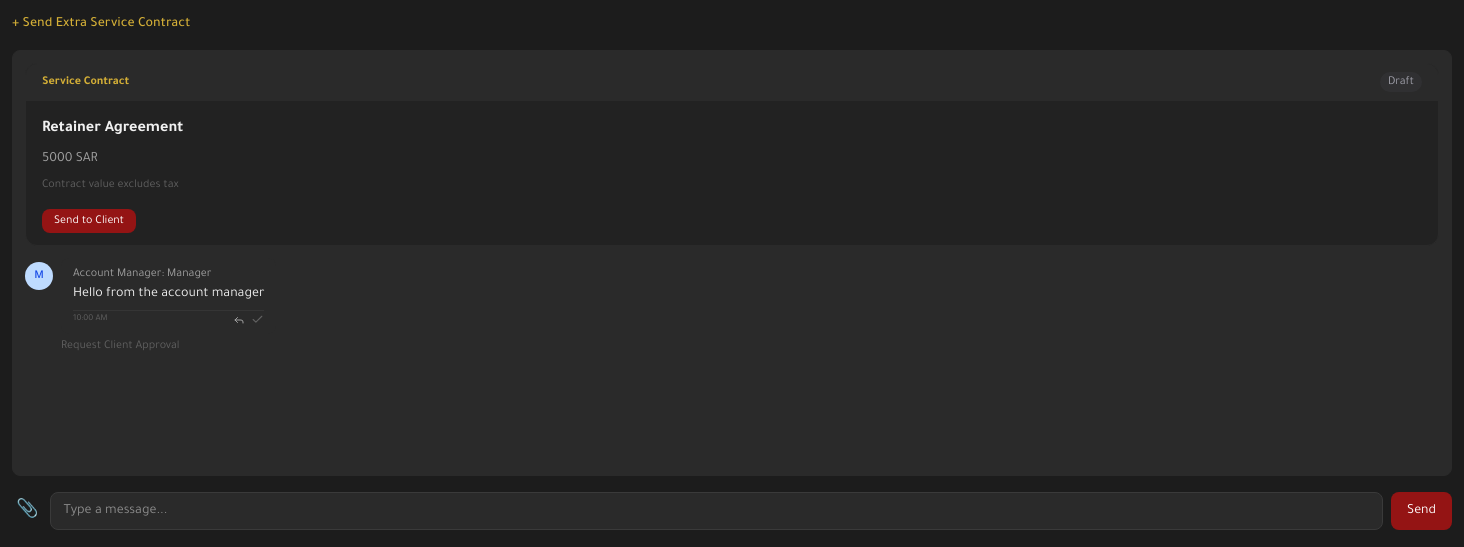
ChatTab (characterization) › toggles "require action" on a message
This screenshot has width=1464, height=547.
Expected: the text "Hello from the account manager" is shown, [73,287,264,301]
Click the button "Request Client Approval" at x=120, y=346, box [61,338,180,354]
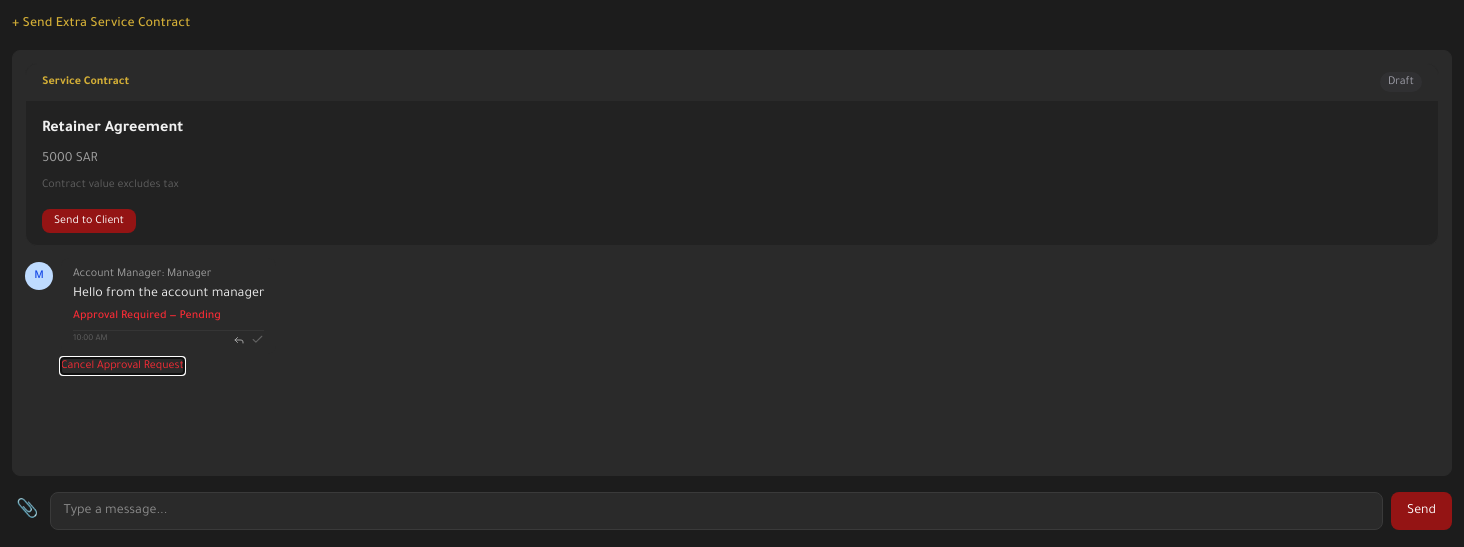
Expected: the button "Cancel Approval Request" is shown, [61,358,184,374]
